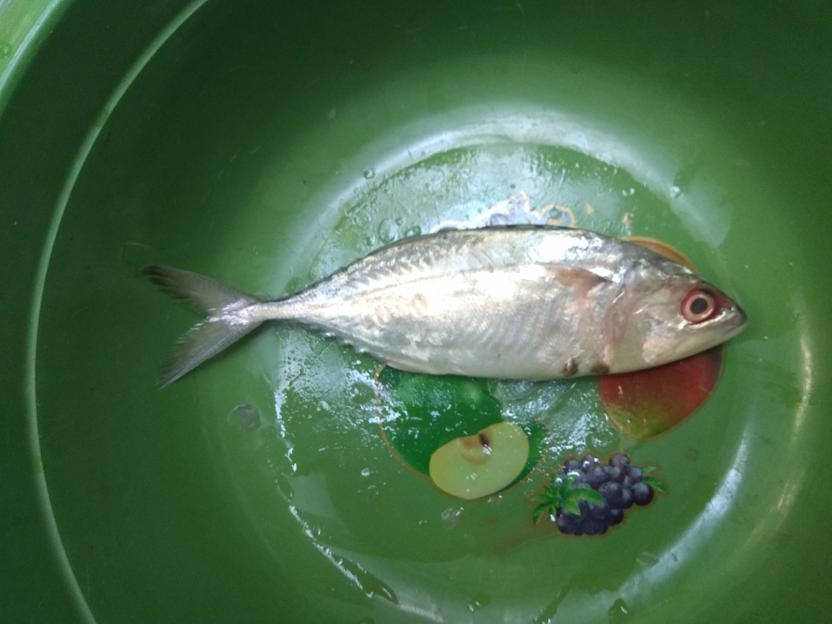Fish head: (605, 259, 747, 374)
Fish tail: (142, 260, 266, 389)
